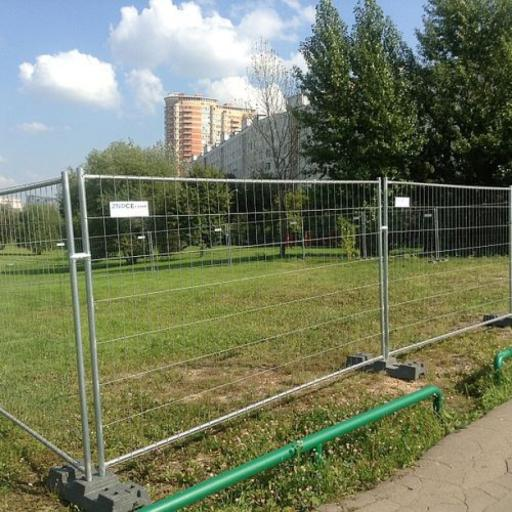chair: (70, 159, 512, 462), (0, 166, 97, 490)
